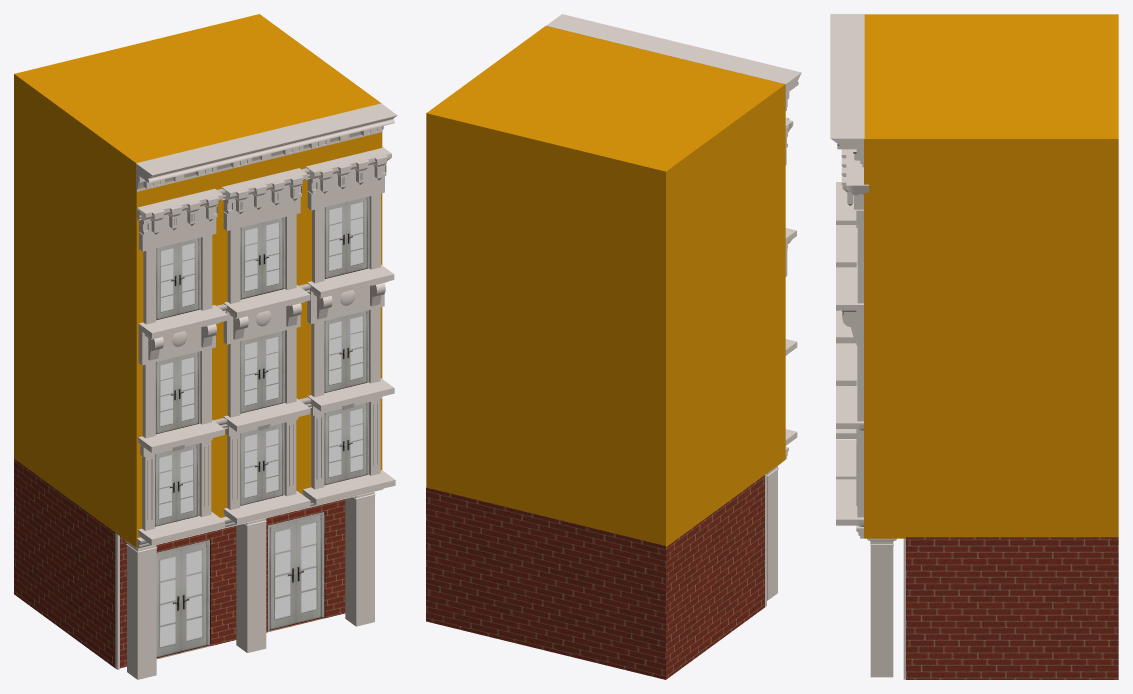
The model's file is first_building_yellow.fbx.
3 renders of one model, left to right at view 1: azimuth 30°, elevation 25°; view 2: azimuth 150°, elevation 25°; view 3: azimuth 270°, elevation 25°, orthographic. The views are drawn at different scales.
Parts seen in each view (by area): view 1: pCube76, pCube23, polySurface239, polySurface157, polySurface158, polySurface156, polySurface150, polySurface147, polySurface148, polySurface151, polySurface152, polySurface153 (+44 smaller); view 2: pCube76, pCube23, polySurface239, polySurface158; view 3: pCube76, pCube23, polySurface239, polySurface156, polySurface173, polySurface189, polySurface188, polySurface167, polySurface186, polySurface172, polySurface256, polySurface187 (+3 smaller).
Boxes of the visible parts, box(x1,y1,x2,y2) form: pCube76: box(14, 14, 382, 548); pCube23: box(14, 459, 345, 668); polySurface239: box(136, 103, 397, 191); polySurface157: box(236, 518, 266, 652); polySurface158: box(123, 538, 157, 679); polySurface156: box(345, 492, 375, 626); polySurface150: box(155, 351, 200, 434); polySurface147: box(324, 196, 369, 278); polySurface148: box(240, 217, 285, 299); polySurface151: box(240, 330, 284, 413); polySurface152: box(324, 310, 368, 392); polySurface153: box(155, 443, 199, 526); pCube76: box(426, 26, 785, 546); pCube23: box(426, 475, 764, 679); polySurface239: box(546, 14, 801, 111); polySurface158: box(767, 463, 780, 600); pCube76: box(864, 14, 1118, 538); pCube23: box(906, 537, 1118, 679); polySurface239: box(830, 14, 864, 167); polySurface156: box(867, 538, 896, 677); polySurface173: box(836, 479, 863, 526); polySurface189: box(836, 386, 863, 430); polySurface188: box(836, 267, 863, 310); polySurface167: box(836, 343, 857, 385); polySurface186: box(836, 225, 857, 267); polySurface172: box(836, 439, 856, 479); polySurface256: box(846, 149, 868, 195); polySurface187: box(836, 182, 856, 224).
Bounding box in the file's own units: 13.12 × 26.38 × 12.74.
8 materials, 5 textured.
